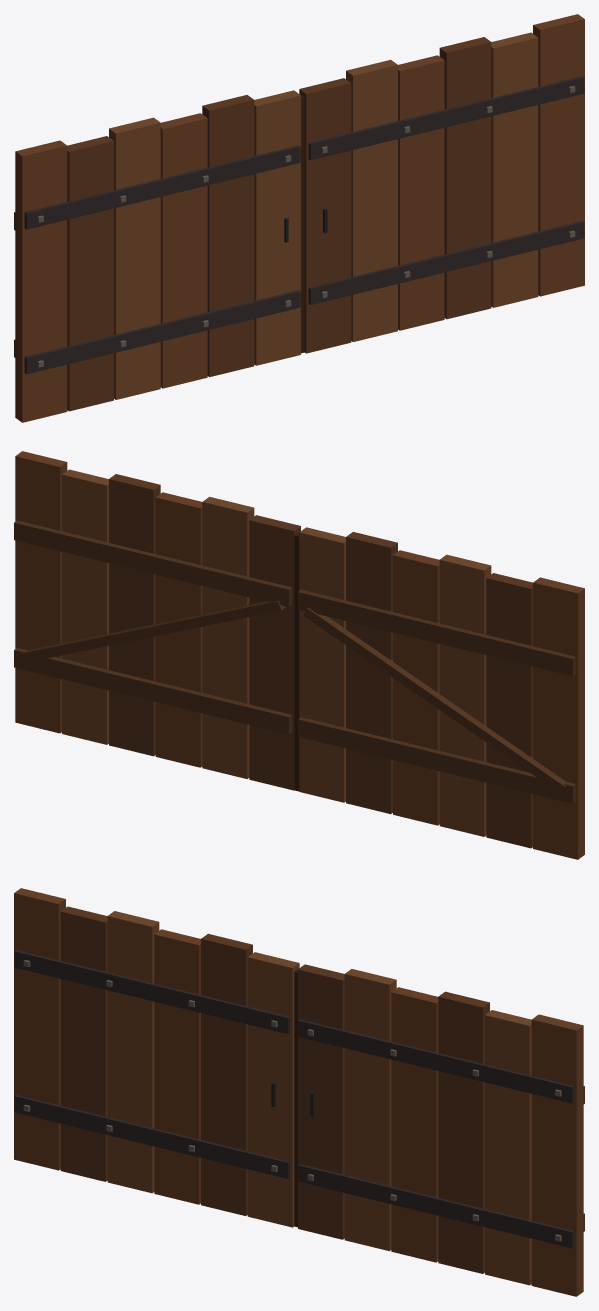
The picture shows the model from 3 angles, top to bottom: view 1: azimuth 30°, elevation 25°; view 2: azimuth 150°, elevation 25°; view 3: azimuth 330°, elevation 25°; orthographic projection.
Parts seen in each view (by area): view 1: baked; view 2: baked; view 3: baked.
Part boxes in pixels (x1,y1,x2,y2): baked: [14, 14, 584, 422]; baked: [14, 451, 584, 859]; baked: [14, 888, 584, 1296].
Size of the model in its own units: 10.17 by 4.6 by 0.455.
